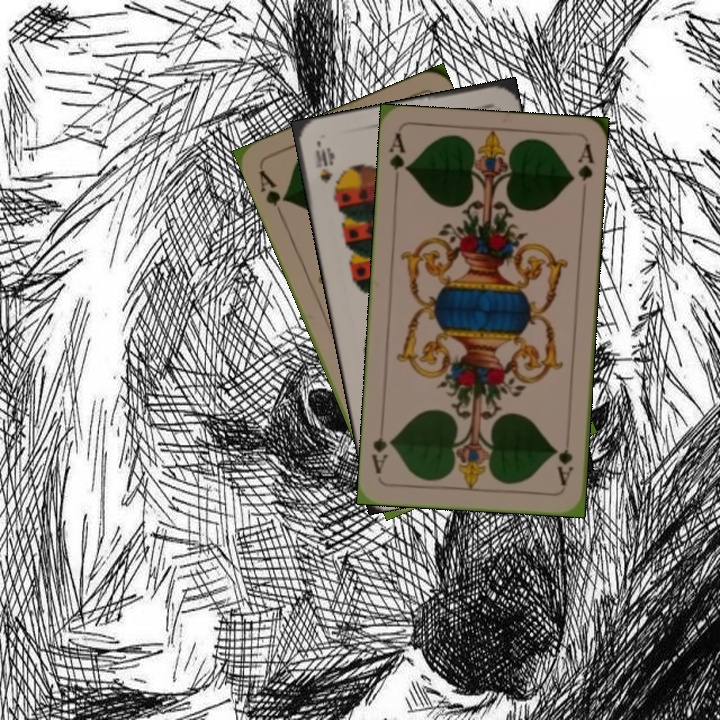GA: (254, 165, 290, 222), (385, 130, 411, 189), (553, 431, 576, 488)
S10: (311, 141, 335, 186)
